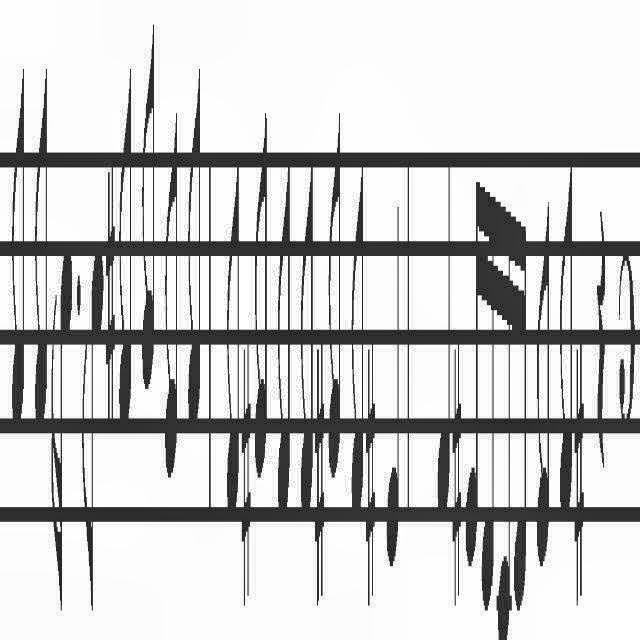Diez: (104, 152, 116, 440), (364, 338, 376, 620), (314, 334, 326, 610), (240, 338, 252, 610), (573, 338, 585, 606), (452, 338, 463, 606)
Eighth-note: (80, 230, 104, 604), (32, 49, 50, 447), (117, 36, 133, 450), (10, 26, 26, 440), (558, 125, 574, 535), (276, 115, 292, 525), (298, 122, 314, 522), (350, 138, 366, 526), (164, 88, 180, 476), (140, 20, 156, 404), (536, 193, 552, 574), (186, 59, 202, 437), (225, 119, 239, 526), (327, 102, 341, 492), (254, 82, 266, 492)
Quarter-note: (384, 180, 400, 580), (435, 147, 451, 538)
Quarter-rest: (596, 190, 608, 476)
Sixteenth-note: (50, 233, 74, 607), (482, 160, 498, 620), (514, 162, 530, 614), (498, 187, 513, 640), (465, 161, 481, 581)
